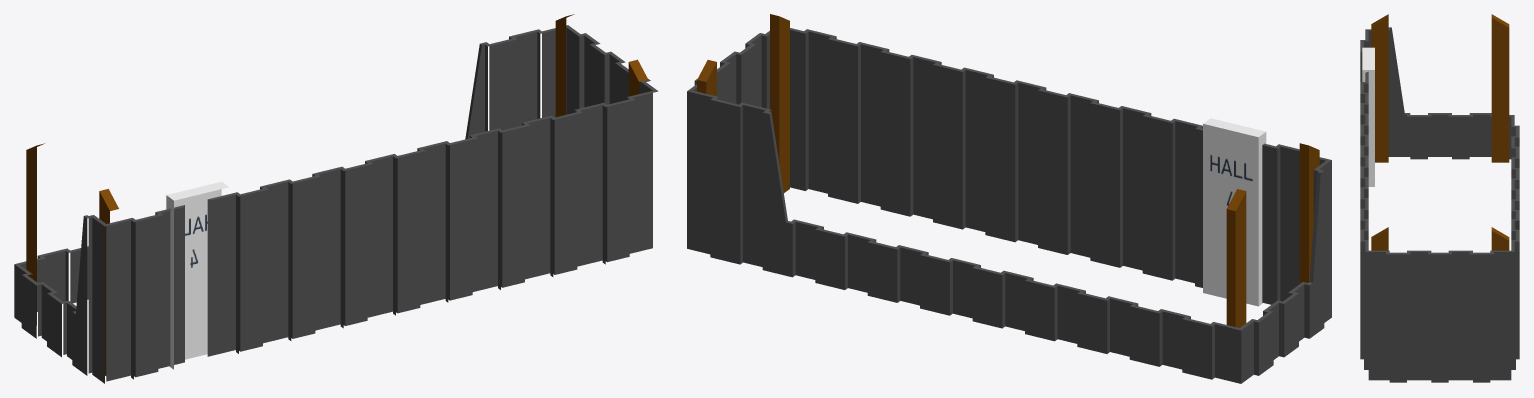
Rendered from Hall_4.fbx.
3 renders of one model, left to right at view 1: azimuth 30°, elevation 25°; view 2: azimuth 150°, elevation 25°; view 3: azimuth 270°, elevation 25°, orthographic. The views are drawn at different scales.
Parts seen in each view (by area): view 1: Hall_4; view 2: Hall_4; view 3: Hall_4.
Boxes of the visible parts, x1,y1,x2,y2 form: Hall_4: (14,14,658,383); Hall_4: (687,14,1331,383); Hall_4: (1360,14,1519,382).
Bounding box in the file's own units: 435 × 134 × 129.
